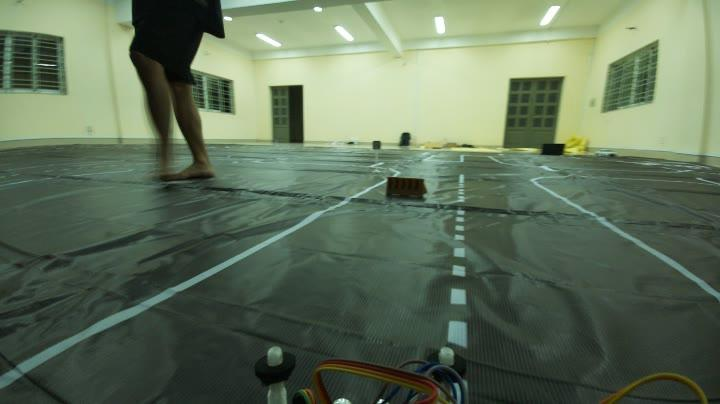roadblock: (380, 173, 432, 206)
